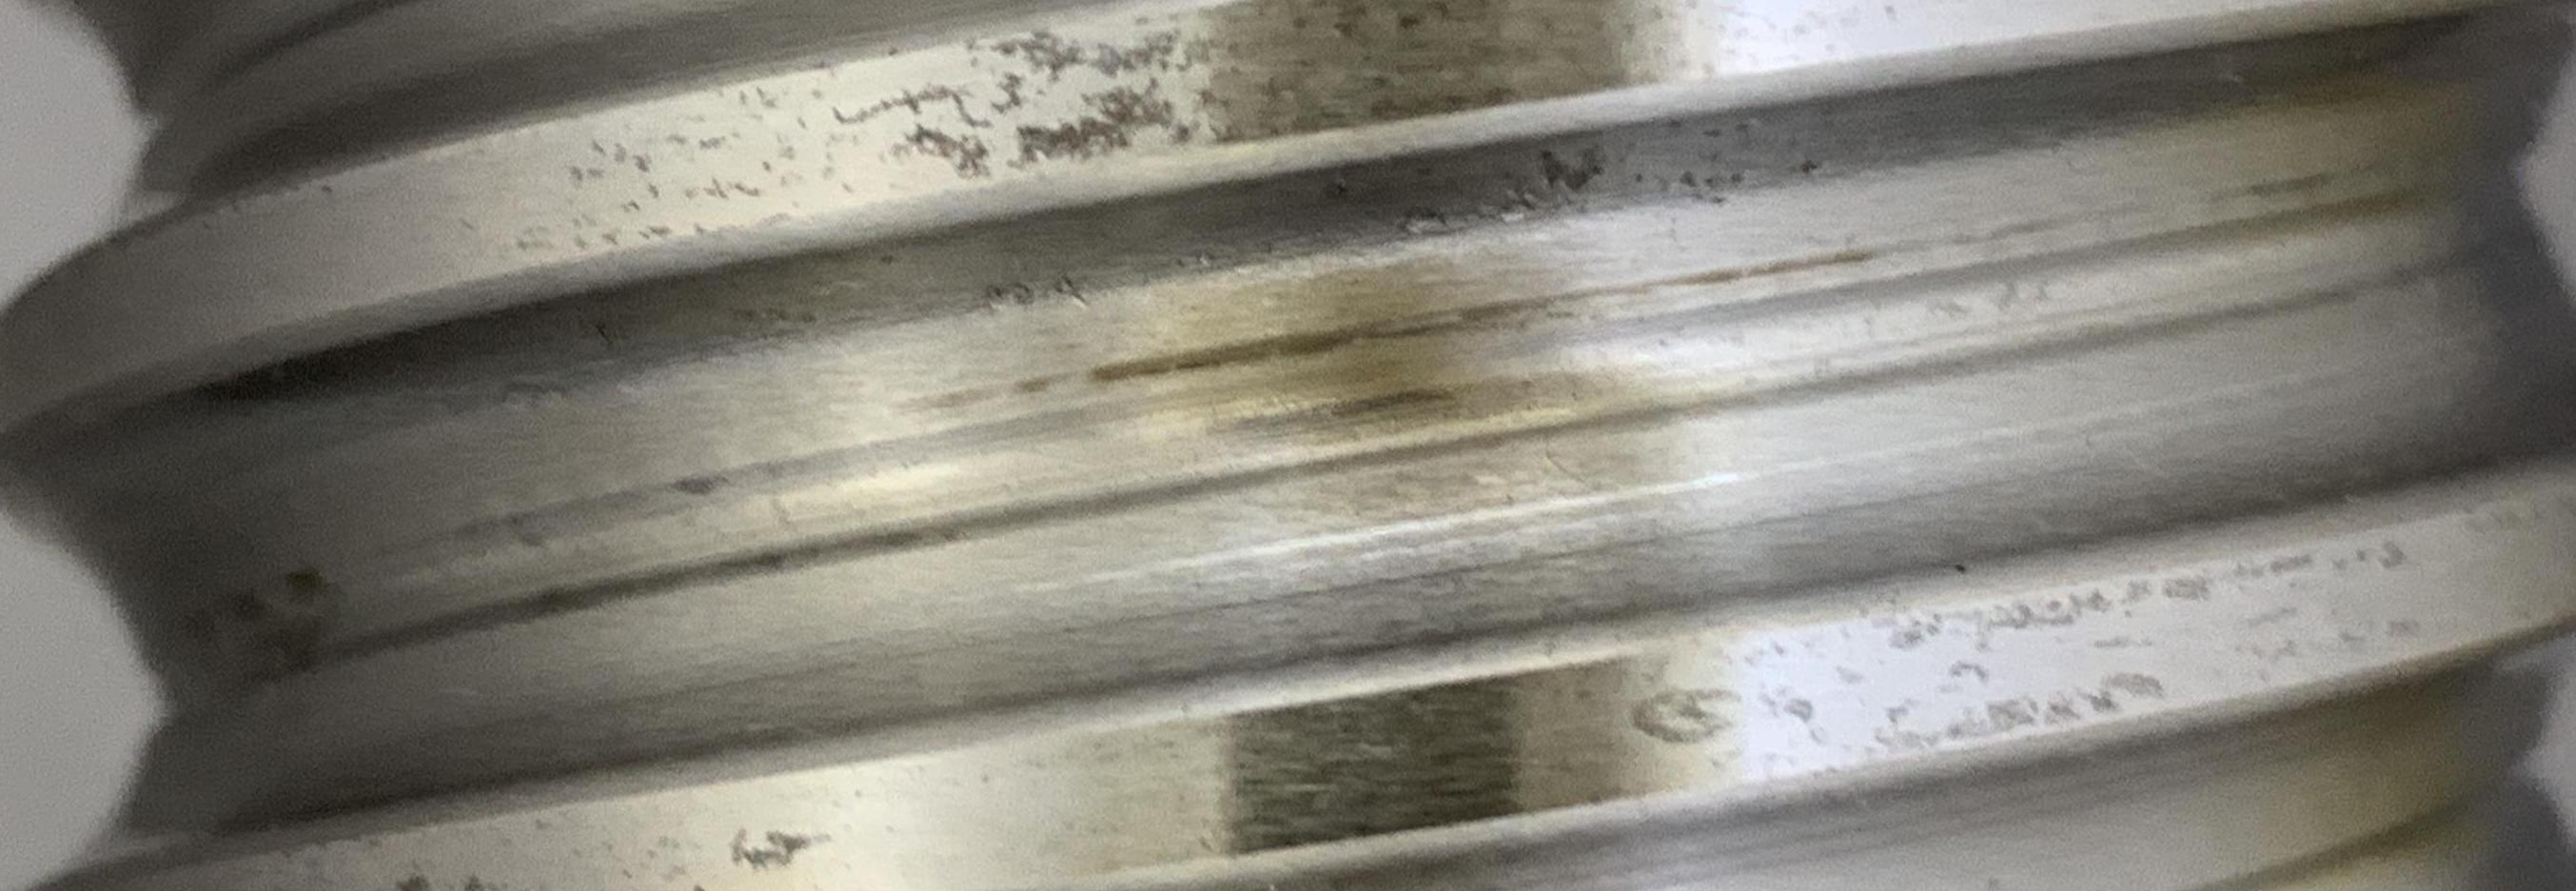pitting: (1541, 148, 1605, 192)
